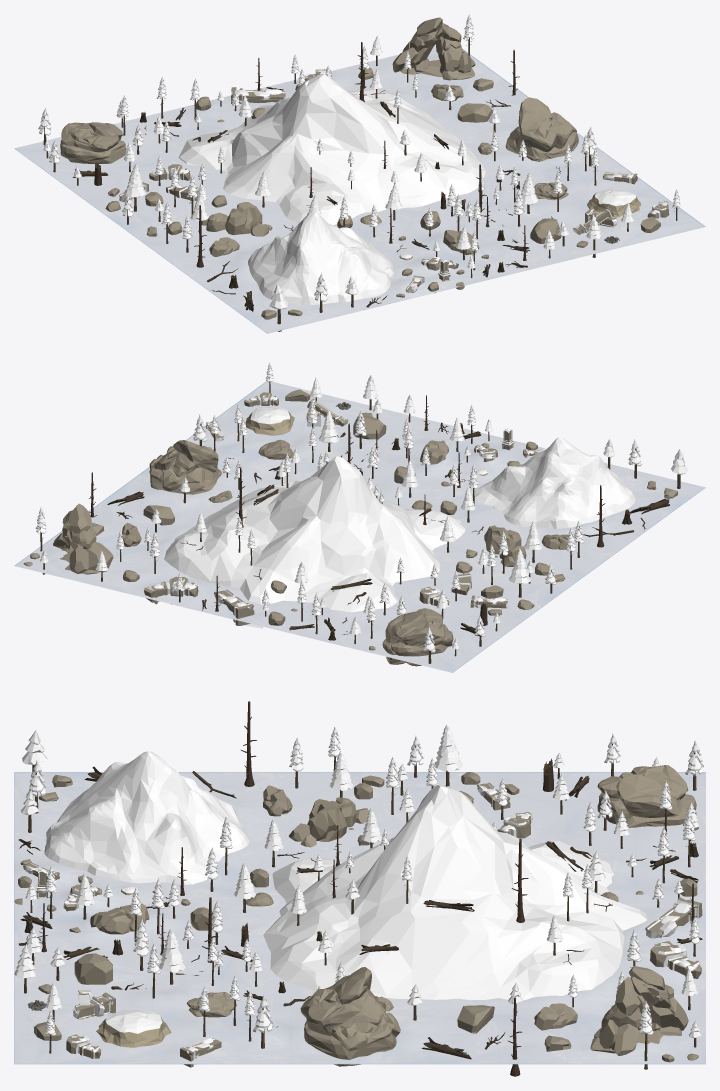
Rendered from snow.fbx.
3 views of the same model, one above another, from view 1: azimuth 30°, elevation 25°; view 2: azimuth 150°, elevation 25°; view 3: azimuth 270°, elevation 25° (orthographic). The views are drawn at different scales.
Parts seen in each view (by area): view 1: Plane001, SM_Terrain_Mountain_02, SM_Terrain_Mountain_01, SM_Rock_CaveEntrance_01, SM_Rock_Cluster_Large_05, SM_Rock_Cluster_Large_04__1_, SM_Rock_Pile_05, SM_Terrain_GrassEdge_04, SM_Prop_Pillar_Broken_Moss_01__1_, SM_Rock_01, SM_Rock_Boulder_01__2_; view 2: Plane001, SM_Terrain_Mountain_02, SM_Terrain_Mountain_01, SM_Rock_Cluster_Large_05, SM_Rock_Cluster_Large_04__1_, SM_Rock_CaveEntrance_01, SM_Terrain_GrassEdge_04, SM_Rock_Pile_05, SM_Prop_Pillar_Arch_Broken_Moss_02__1_, SM_Prop_Pillar_Broken_Moss_01__1_, SM_Rock_Cluster_Large_04, SM_Rock_Boulder_01__2_ (+1 smaller); view 3: Plane001, SM_Terrain_Mountain_02, SM_Terrain_Mountain_01, SM_Rock_Cluster_Large_05, SM_Rock_CaveEntrance_01, SM_Rock_Cluster_Large_04__1_, SM_Rock_Pile_05, SM_Terrain_GrassEdge_04, SM_Prop_Pillar_Broken_Moss_01__1_, SM_Rock_Pile_01__3_, SM_Prop_Pillar_Arch_Broken_Moss_02__1_, SM_Rock_Boulder_01__2_ (+10 smaller).
Boxes of the visible parts, bbox=[...] form: Plane001: bbox=[14, 45, 705, 333]; SM_Terrain_Mountain_02: bbox=[178, 74, 485, 224]; SM_Terrain_Mountain_01: bbox=[248, 211, 394, 305]; SM_Rock_CaveEntrance_01: bbox=[392, 17, 475, 80]; SM_Rock_Cluster_Large_05: bbox=[505, 97, 578, 161]; SM_Rock_Cluster_Large_04__1_: bbox=[60, 122, 126, 163]; SM_Rock_Pile_05: bbox=[201, 202, 272, 236]; SM_Terrain_GrassEdge_04: bbox=[587, 188, 640, 217]; SM_Prop_Pillar_Broken_Moss_01__1_: bbox=[231, 87, 285, 103]; SM_Rock_01: bbox=[457, 103, 492, 122]; SM_Rock_Boulder_01__2_: bbox=[530, 218, 561, 243]; Plane001: bbox=[14, 381, 705, 672]; SM_Terrain_Mountain_02: bbox=[164, 456, 465, 628]; SM_Terrain_Mountain_01: bbox=[472, 437, 636, 528]; SM_Rock_Cluster_Large_05: bbox=[149, 440, 221, 494]; SM_Rock_Cluster_Large_04__1_: bbox=[382, 608, 453, 666]; SM_Rock_CaveEntrance_01: bbox=[53, 503, 113, 574]; SM_Terrain_GrassEdge_04: bbox=[245, 406, 294, 435]; SM_Rock_Pile_05: bbox=[484, 525, 526, 566]; SM_Prop_Pillar_Arch_Broken_Moss_02__1_: bbox=[144, 576, 198, 604]; SM_Prop_Pillar_Broken_Moss_01__1_: bbox=[214, 589, 254, 625]; SM_Rock_Cluster_Large_04: bbox=[258, 439, 293, 459]; SM_Rock_Boulder_01__2_: bbox=[353, 415, 386, 439]; Plane001: bbox=[14, 772, 705, 1064]; SM_Terrain_Mountain_02: bbox=[263, 784, 647, 1000]; SM_Terrain_Mountain_01: bbox=[44, 751, 249, 884]; SM_Rock_Cluster_Large_05: bbox=[300, 967, 400, 1066]; SM_Rock_CaveEntrance_01: bbox=[590, 966, 688, 1055]; SM_Rock_Cluster_Large_04__1_: bbox=[597, 765, 696, 827]; SM_Rock_Pile_05: bbox=[289, 797, 368, 847]; SM_Terrain_GrassEdge_04: bbox=[96, 1010, 171, 1047]; SM_Prop_Pillar_Broken_Moss_01__1_: bbox=[645, 897, 702, 938]; SM_Rock_Pile_01__3_: bbox=[90, 903, 149, 934]; SM_Prop_Pillar_Arch_Broken_Moss_02__1_: bbox=[650, 941, 701, 978]; SM_Rock_Boulder_01__2_: bbox=[74, 953, 112, 984].
Bounding box in the file's own units: 3800 × 925 × 3800.
4 materials, 4 textured.
